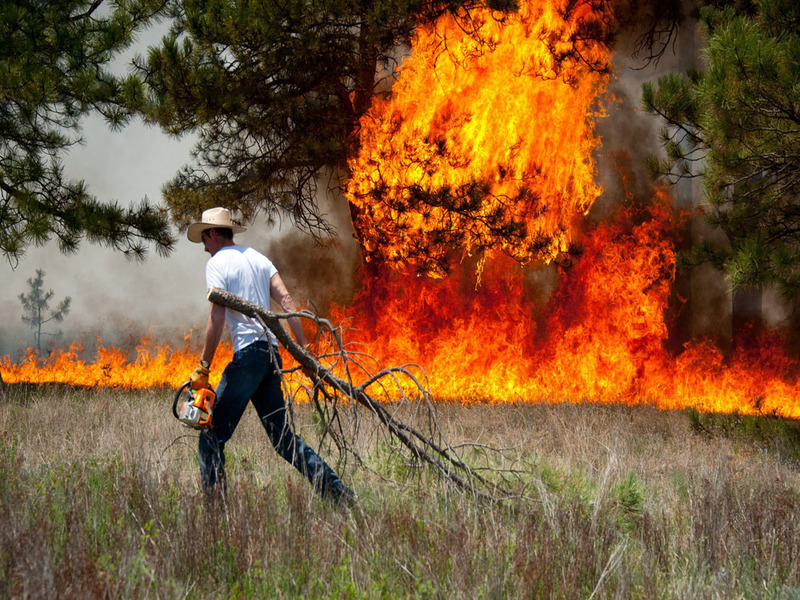fire: (330, 3, 647, 394)
